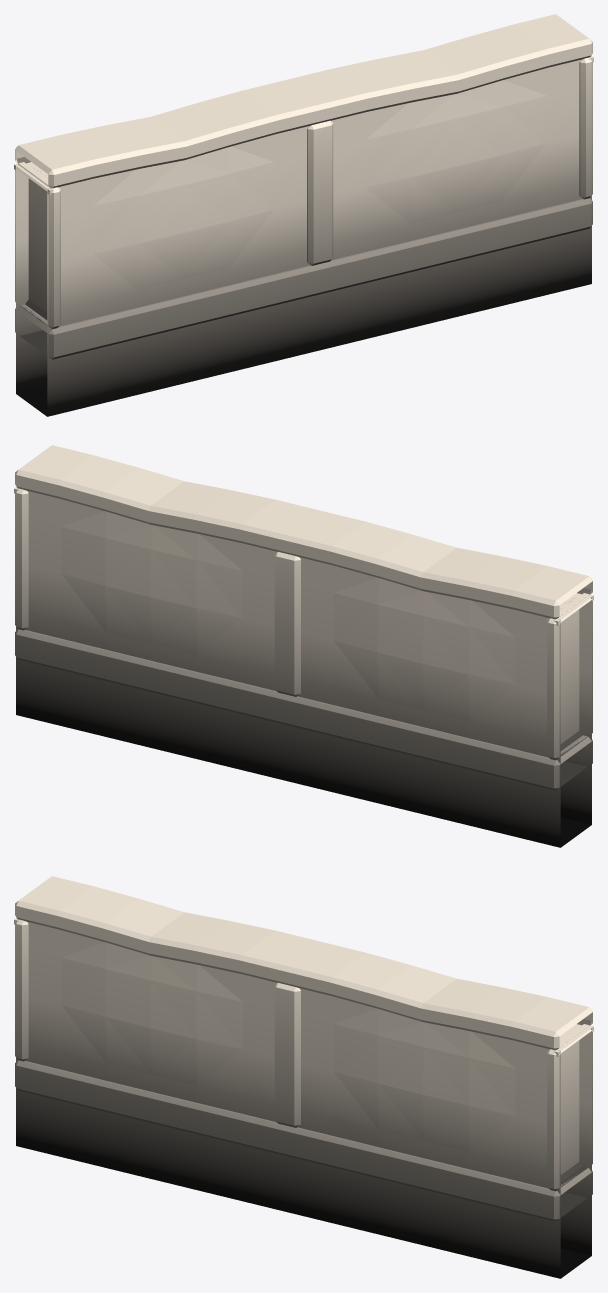
Rendered from SM_VKI_Wall_Wattle_Plain_300_Cut.fbx.
3 renders of one model, top to bottom at view 1: azimuth 30°, elevation 25°; view 2: azimuth 150°, elevation 25°; view 3: azimuth 330°, elevation 25°, orthographic.
Visible parts, largest first — view 1: SM_VKI_Wall_Wattle_Plain_300_Cut.001; view 2: SM_VKI_Wall_Wattle_Plain_300_Cut.001; view 3: SM_VKI_Wall_Wattle_Plain_300_Cut.001.
Part boxes in pixels (x1,y1,x2,y2): SM_VKI_Wall_Wattle_Plain_300_Cut.001: (14, 14, 593, 416); SM_VKI_Wall_Wattle_Plain_300_Cut.001: (14, 445, 593, 847); SM_VKI_Wall_Wattle_Plain_300_Cut.001: (14, 876, 593, 1278).
Size of the model in its own units: 3 by 1.3 by 0.36.
